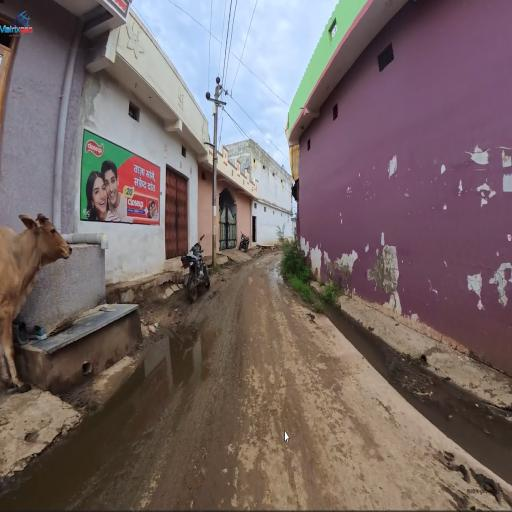drainage_issue: (409, 330, 449, 420)
